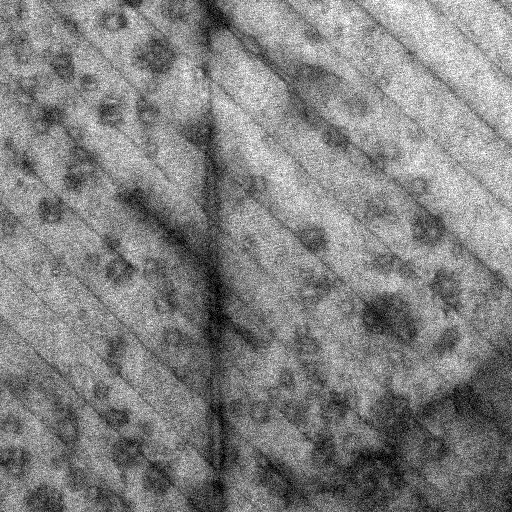5: (254, 447, 315, 509), (283, 82, 321, 132), (53, 398, 82, 450), (103, 253, 139, 290), (278, 397, 314, 433), (417, 430, 452, 466), (291, 226, 330, 257), (288, 58, 325, 90), (91, 8, 134, 33), (339, 89, 374, 119), (404, 116, 431, 153), (149, 288, 181, 319), (132, 135, 162, 165), (238, 228, 262, 265), (247, 396, 273, 426), (404, 175, 432, 202), (333, 292, 357, 323), (277, 364, 299, 396), (61, 123, 89, 147), (158, 325, 184, 350), (375, 138, 402, 162), (371, 70, 395, 96), (143, 255, 167, 280), (247, 169, 269, 196), (384, 347, 408, 370), (264, 383, 286, 408), (447, 238, 466, 265), (104, 39, 124, 63), (78, 72, 101, 92), (29, 257, 47, 279), (47, 262, 66, 282)
a-axis: (195, 0, 233, 512)
y2o3: (58, 446, 82, 470), (226, 395, 246, 419), (47, 454, 65, 476), (11, 172, 28, 191), (117, 469, 130, 493)
y2o3_orange: (337, 443, 411, 512), (2, 363, 97, 415), (354, 288, 423, 346), (358, 388, 416, 446), (289, 268, 346, 315), (126, 31, 181, 78), (58, 146, 103, 198), (24, 97, 73, 139), (424, 267, 465, 317), (175, 116, 222, 157), (315, 386, 362, 426), (408, 209, 447, 256), (309, 427, 345, 477), (138, 458, 178, 502), (362, 251, 419, 281), (425, 321, 465, 363), (286, 318, 326, 358), (110, 434, 148, 475), (358, 188, 399, 225), (1, 28, 37, 68), (320, 119, 354, 159), (22, 481, 65, 512), (12, 71, 46, 109), (0, 445, 33, 484), (93, 94, 127, 131), (46, 49, 77, 88), (7, 146, 42, 180), (34, 195, 67, 229), (132, 92, 162, 129), (101, 328, 134, 360), (62, 461, 94, 494), (0, 200, 21, 246), (150, 1, 189, 24), (103, 404, 130, 434), (0, 409, 25, 437), (298, 24, 326, 47), (87, 378, 112, 403), (99, 231, 124, 254), (79, 251, 102, 274), (105, 359, 125, 382), (73, 305, 93, 325), (3, 133, 18, 152)
